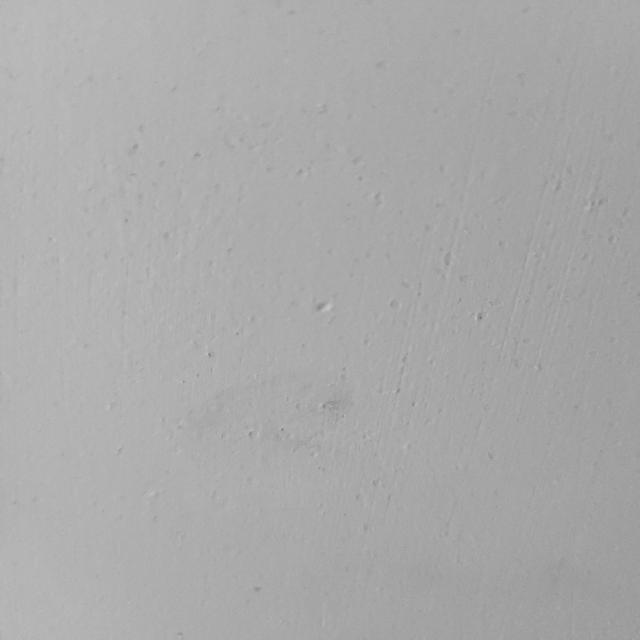rough and patchy surface: (163, 67, 627, 505)
